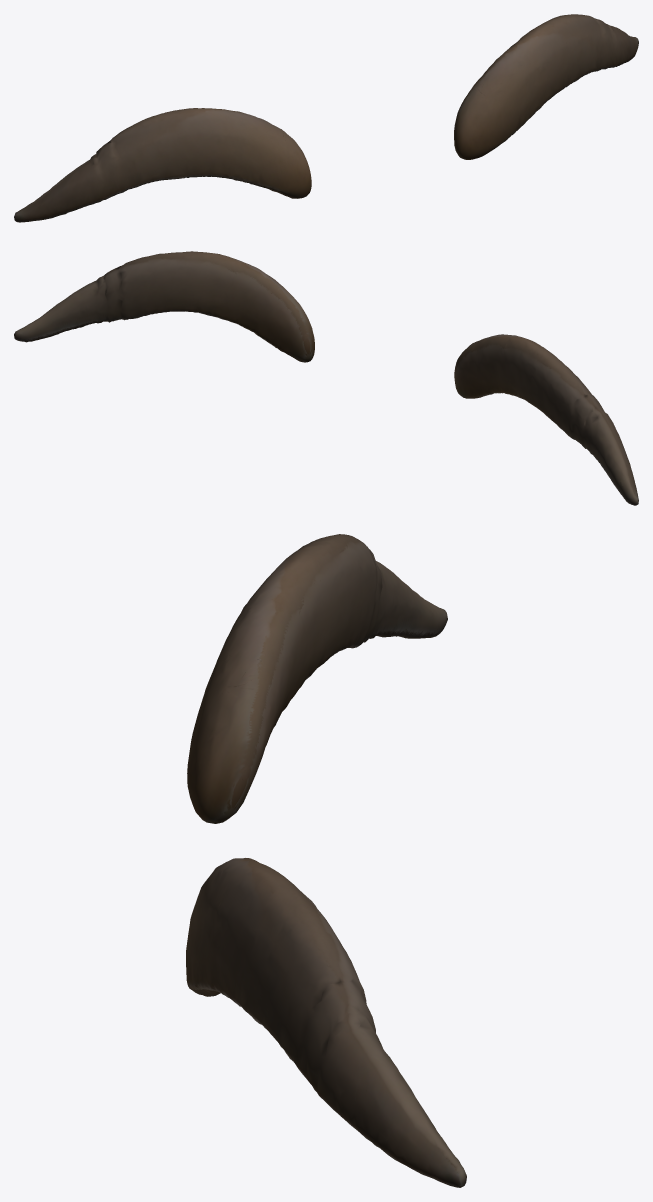
File: eyebrow_thick.fbx
3 views of the same model, one above another, from view 1: azimuth 30°, elevation 25°; view 2: azimuth 150°, elevation 25°; view 3: azimuth 270°, elevation 25° (orthographic). The views are drawn at different scales.
Parts seen in each view (by area): view 1: material_0.006, material_0.004; view 2: material_0.004, material_0.006; view 3: material_0.004, material_0.006.
Part boxes in pixels (<box>): material_0.006: <box>14,108,311,222</box>; material_0.004: <box>454,14,638,159</box>; material_0.004: <box>14,251,314,362</box>; material_0.006: <box>454,334,638,505</box>; material_0.004: <box>186,858,466,1187</box>; material_0.006: <box>187,534,447,823</box>.
Size of the model in its own units: 30.85 by 5.08 by 6.07.
2 materials, 2 textured.
